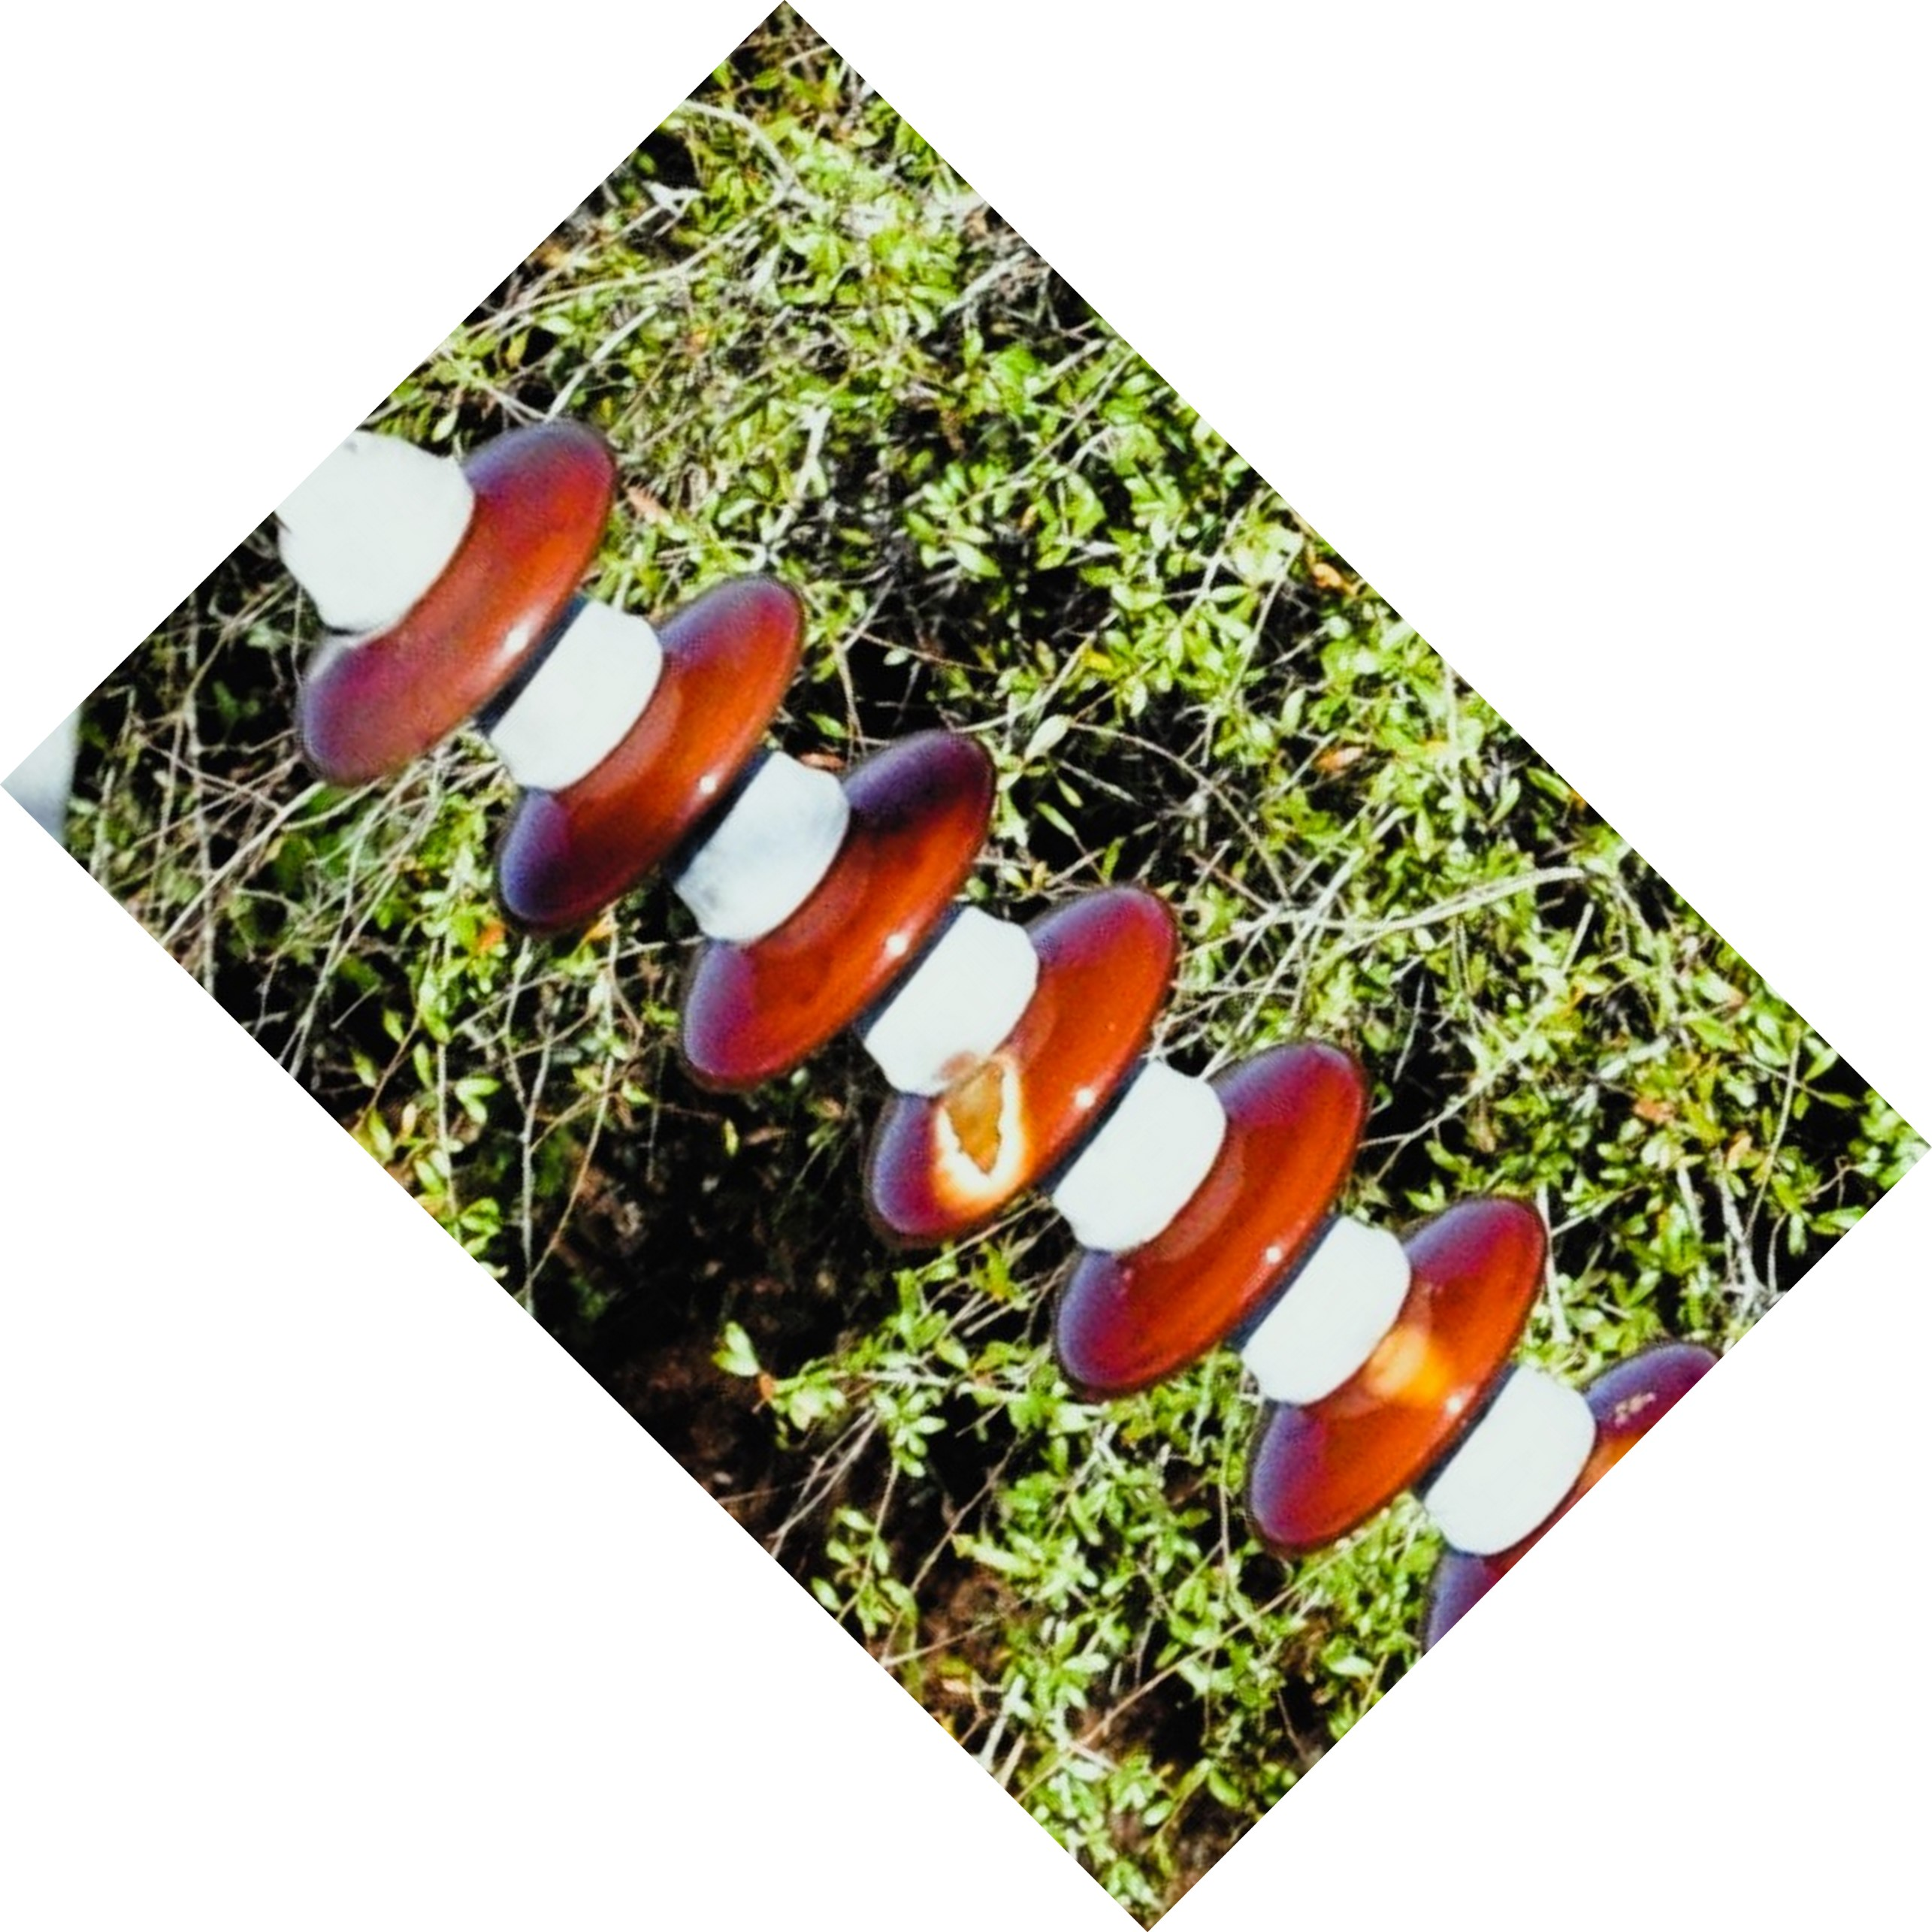Insulator flashover: (839, 883, 1192, 1254)
